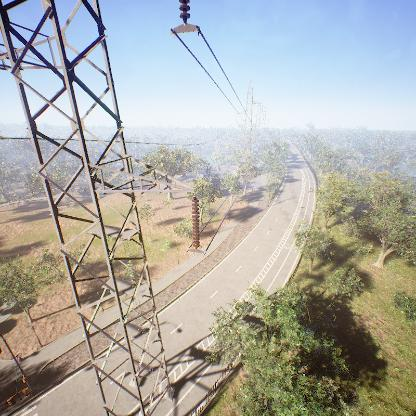insulator: (189, 197, 202, 251)
